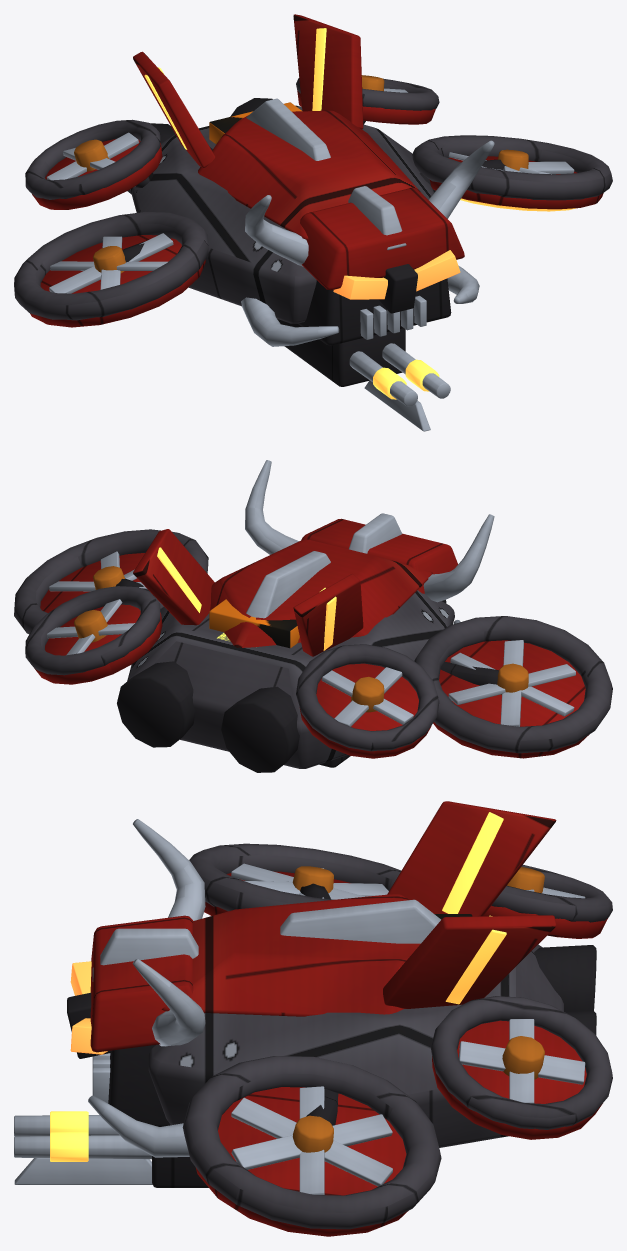
The model's file is rusher_drone.glb.
The picture shows the model from 3 angles, top to bottom: view 1: azimuth 30°, elevation 25°; view 2: azimuth 150°, elevation 25°; view 3: azimuth 270°, elevation 25°; orthographic projection. The views are drawn at different scales.
Parts seen in each view (by area): view 1: Drone_MainHull, Drone_CrimsonCowl, ShroudRing_0, Drone_HeadBrow, ShroudRing_1, ShroudRing_2, Drone_WingFin_1, Drone_HeadFrame, ShroudLip_0, Drone_GunPod, Drone_WingFin_-1, Drone_TopCrest (+23 smaller); view 2: Drone_MainHull, ShroudRing_0, Drone_CrimsonCowl, ShroudRing_2, ShroudLip_0, ShroudRing_3, Drone_Thruster_1, Drone_Thruster_-1, ShroudRing_1, Drone_WingFin_1, ShroudLip_2, Drone_WingFin_-1 (+23 smaller); view 3: Drone_MainHull, ShroudRing_1, Drone_CrimsonCowl, ShroudRing_3, Drone_WingFin_-1, Drone_WingFin_1, ShroudLip_1, Drone_HeadBrow, ShroudRing_0, ShroudLip_3, Drone_TopCrest, ShroudRing_2 (+29 smaller).
Boxes of the visible parts, bbox=[...] form: Drone_MainHull: bbox=[130, 105, 433, 323]; Drone_CrimsonCowl: bbox=[198, 110, 423, 239]; ShroudRing_0: bbox=[14, 212, 208, 320]; Drone_HeadBrow: bbox=[300, 187, 464, 290]; ShroudRing_1: bbox=[412, 135, 612, 200]; ShroudRing_2: bbox=[25, 119, 160, 199]; Drone_WingFin_1: bbox=[293, 14, 363, 129]; Drone_HeadFrame: bbox=[298, 278, 451, 345]; ShroudLip_0: bbox=[30, 235, 205, 327]; Drone_GunPod: bbox=[277, 319, 405, 386]; Drone_WingFin_-1: bbox=[133, 51, 214, 167]; Drone_TopCrest: bbox=[246, 98, 330, 160]; Drone_MainHull: bbox=[127, 590, 454, 768]; ShroudRing_0: bbox=[414, 616, 612, 753]; Drone_CrimsonCowl: bbox=[210, 539, 432, 647]; ShroudRing_2: bbox=[296, 644, 439, 751]; ShroudLip_0: bbox=[433, 640, 589, 758]; ShroudRing_3: bbox=[25, 586, 160, 675]; Drone_Thruster_1: bbox=[117, 661, 195, 747]; Drone_Thruster_-1: bbox=[220, 686, 299, 772]; ShroudRing_1: bbox=[14, 529, 208, 633]; Drone_WingFin_1: bbox=[133, 529, 214, 625]; ShroudLip_2: bbox=[299, 663, 431, 758]; Drone_WingFin_-1: bbox=[293, 574, 363, 656]; Drone_MainHull: bbox=[148, 944, 563, 1147]; ShroudRing_1: bbox=[182, 1056, 441, 1229]; Drone_CrimsonCowl: bbox=[161, 894, 420, 1016]; ShroudRing_3: bbox=[431, 996, 612, 1129]; Drone_WingFin_-1: bbox=[387, 801, 556, 916]; Drone_WingFin_1: bbox=[383, 915, 556, 1008]; ShroudLip_1: bbox=[195, 1087, 407, 1236]; Drone_HeadBrow: bbox=[90, 915, 193, 1052]; ShroudRing_0: bbox=[189, 843, 401, 911]; ShroudLip_3: bbox=[432, 1020, 602, 1139]; Drone_TopCrest: bbox=[280, 899, 440, 943]; ShroudRing_2: bbox=[491, 865, 612, 922].
Bounding box in the file's own units: 1.54 × 0.6464 × 1.08.
Materials: 8 (6 with a texture image).
